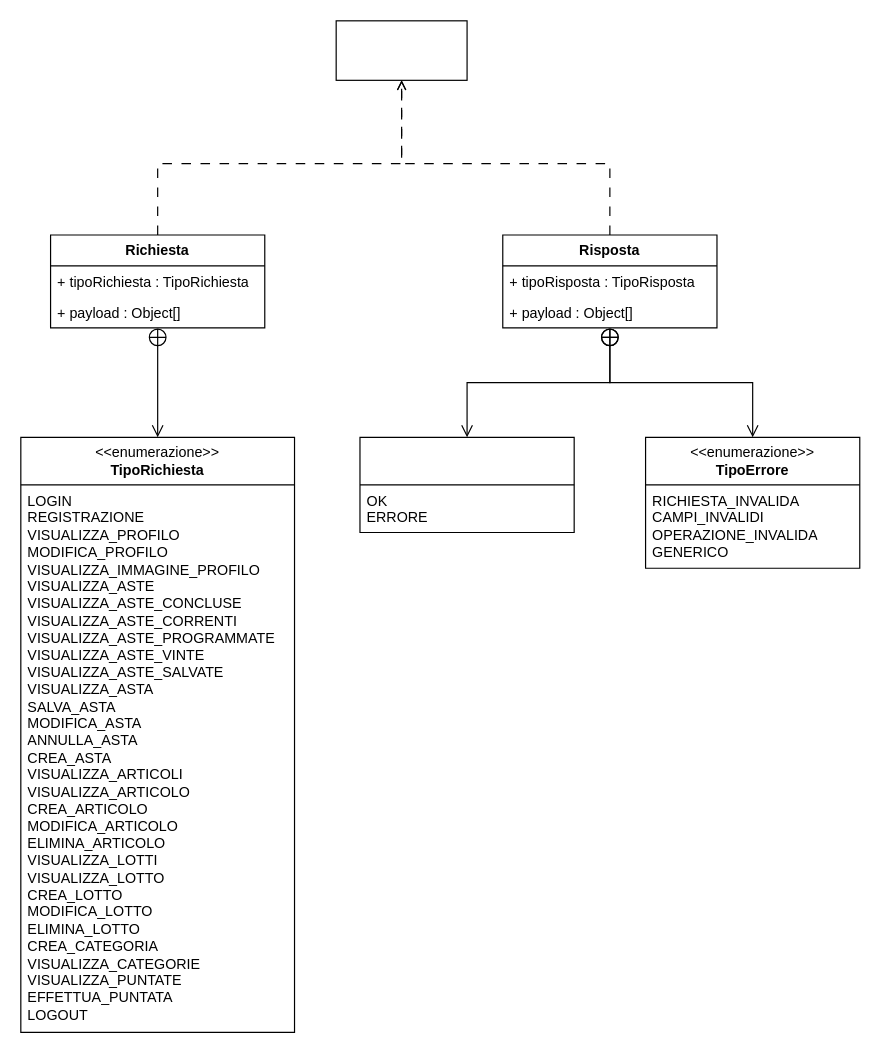
Image size: 881x1057. Some labels were removed from this diagram. Here are the shapes that lost their labels. From the top down, the box of each, then its label:
(335, 20, 467, 80): «interfaccia» Serializable
(359, 436, 574, 533): <<enumerazione>> TipoRisposta
